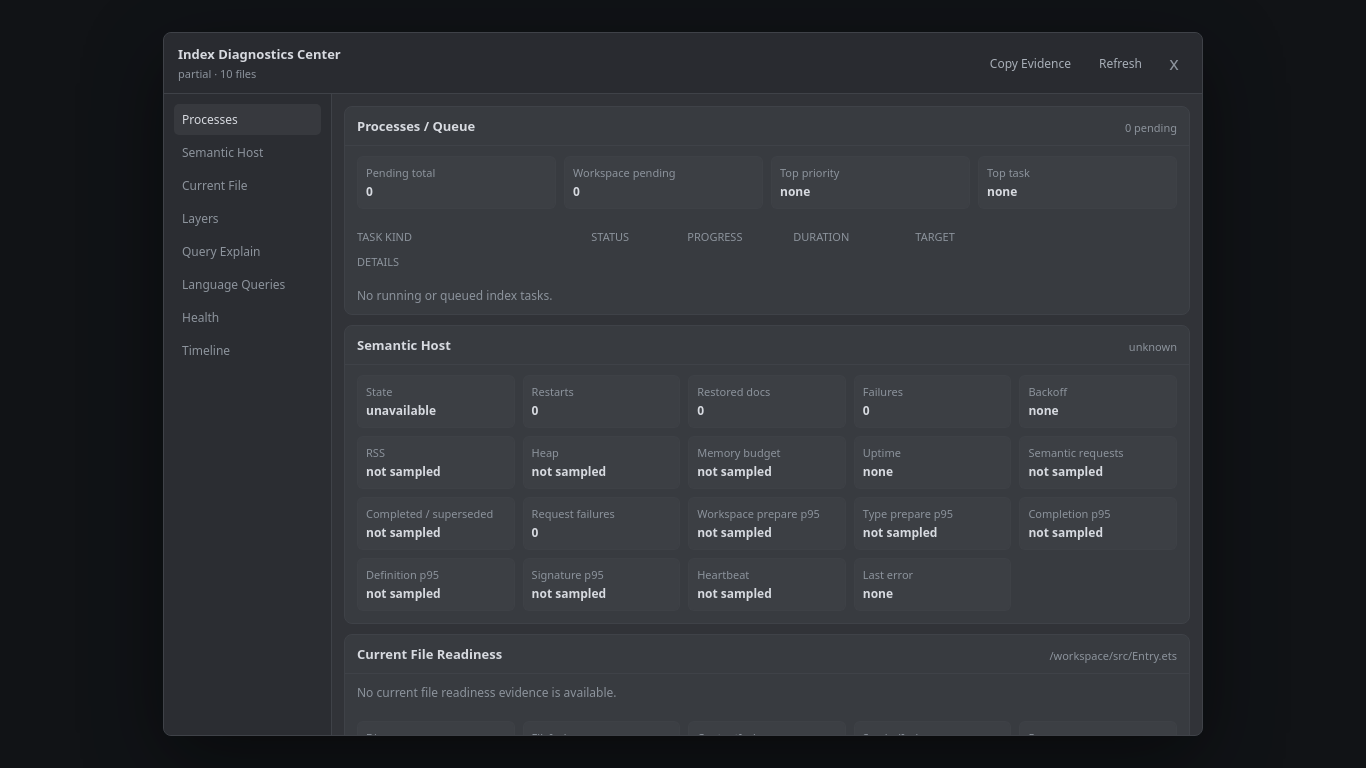
IndexDiagnosticsCenter copy evidence › copies a structured index diagnostics evidence report
This screenshot has width=1366, height=768.
Click the button "Copy Evidence": {"x": 1030, "y": 63} [980,51,1081,75]
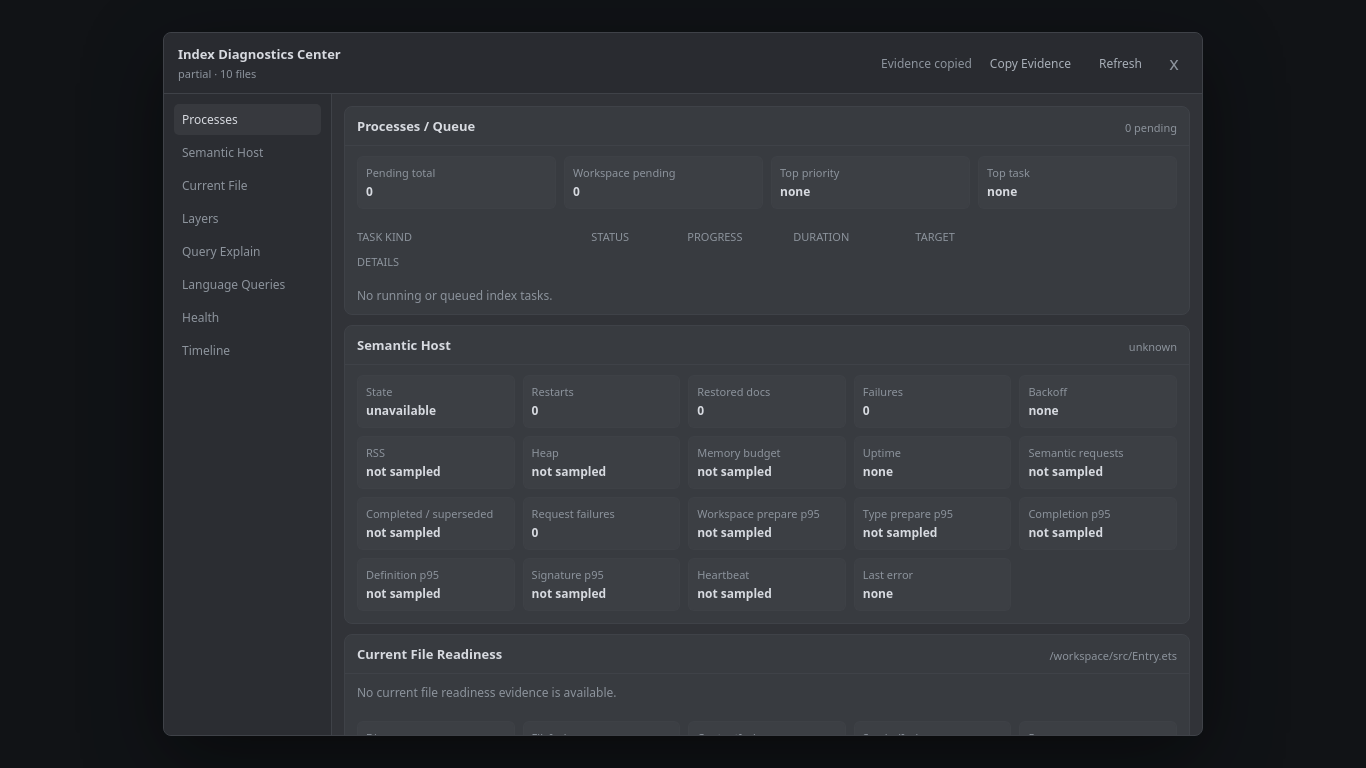
Result: the text "Evidence copied" is shown at [881,54,972,72]
